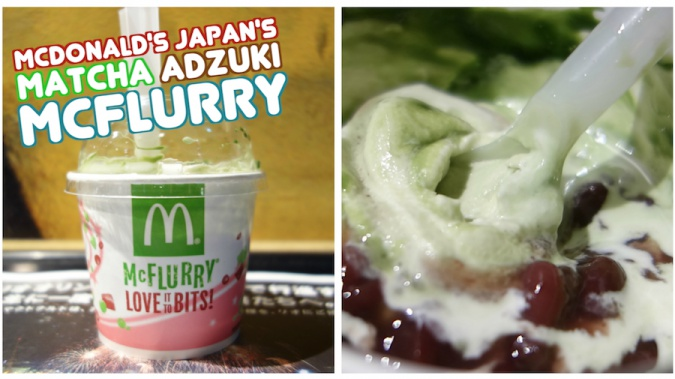mcdonalds: (139, 201, 197, 252)
